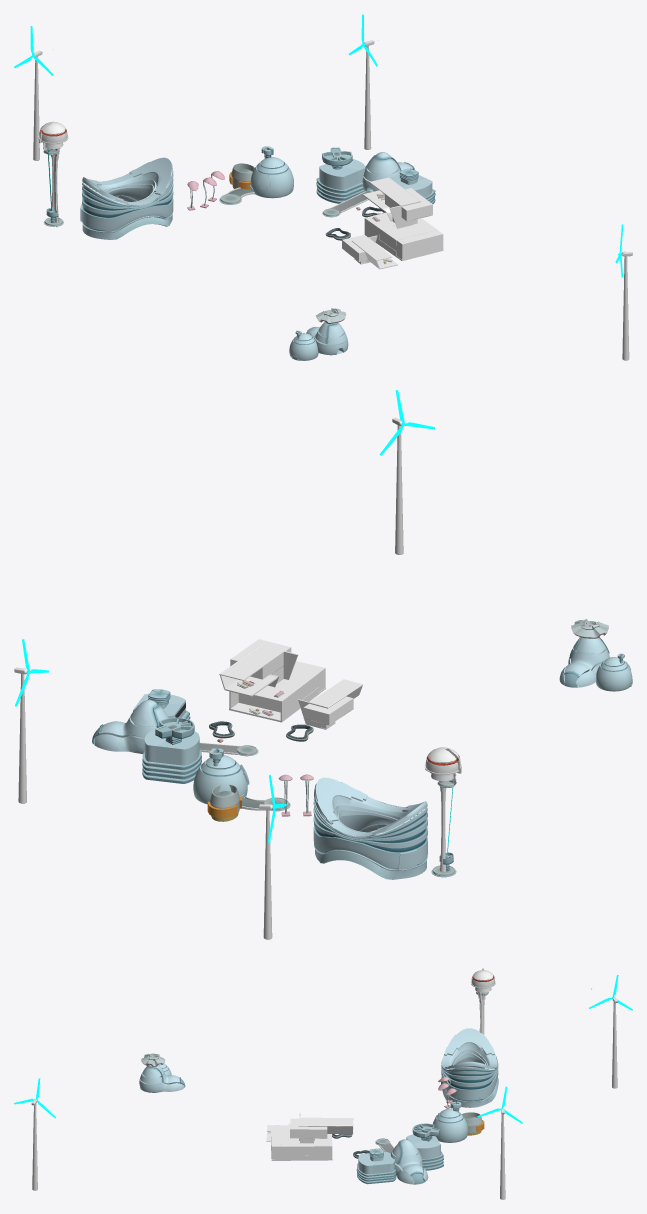
The model's file is Town03.glb.
3 renders of one model, top to bottom at view 1: azimuth 30°, elevation 25°; view 2: azimuth 150°, elevation 25°; view 3: azimuth 270°, elevation 25°, orthographic. The views are drawn at different scales.
Visible parts, largest first — view 1: Architecture_02, Modern House_01, Modern House_02, 17489_Wind_Turbine_v1 (×3), Chimney_02 (2), Egg House_01, Modern House_02 (1), Tower_02 (1), Egg House_03, Egg House_03 (1), Egg House_01 (2), Chimney_02 (+2 smaller); view 2: Architecture_02, Modern House_02, Modern House_01, 17489_Wind_Turbine_v1 (×3), Chimney_02 (2), Egg House_03, Modern House_02 (1), Egg House_01, Egg House_03 (1), Tower_02 (1), Egg House_01 (2), Platform_04 (+1 smaller); view 3: Architecture_02, Modern House_01, Modern House_02, 17489_Wind_Turbine_v1 (×3), Egg House_03, Chimney_02, Egg House_01, Egg House_03 (1), Chimney_02 (2), Tower_02 (1), Platform_04, Platform_02 (1).
Part boxes in pixels (x1,y1,x2,y2): Architecture_02: (80, 157, 173, 239); Modern House_01: (364, 212, 443, 261); Modern House_02: (362, 177, 432, 228); 17489_Wind_Turbine_v1 (×3): (33, 39, 632, 360); Chimney_02 (2): (316, 159, 365, 203); Egg House_01: (250, 157, 293, 198); Modern House_02 (1): (342, 235, 397, 269); Tower_02 (1): (38, 121, 68, 227); Egg House_03: (362, 152, 414, 191); Egg House_03 (1): (306, 322, 348, 355); Egg House_01 (2): (289, 333, 318, 360); Chimney_02: (390, 173, 435, 203); Architecture_02: (313, 777, 427, 879); Modern House_02: (219, 639, 298, 696); Modern House_01: (229, 661, 325, 722); 17489_Wind_Turbine_v1 (×3): (14, 418, 403, 939); Chimney_02 (2): (142, 728, 201, 783); Egg House_03: (92, 700, 168, 753); Modern House_02 (1): (298, 679, 363, 729); Egg House_01: (193, 755, 249, 804); Egg House_03 (1): (559, 637, 609, 687); Tower_02 (1): (424, 747, 461, 871); Egg House_01 (2): (596, 657, 632, 691); Platform_04: (207, 784, 241, 821); Architecture_02: (441, 1028, 498, 1107); Modern House_01: (271, 1129, 332, 1160); Modern House_02: (290, 1113, 353, 1143); 17489_Wind_Turbine_v1 (×3): (31, 988, 617, 1199); Egg House_03: (391, 1139, 428, 1184); Chimney_02: (356, 1151, 396, 1184); Egg House_01: (433, 1108, 467, 1142); Egg House_03 (1): (139, 1064, 185, 1092); Chimney_02 (2): (406, 1134, 443, 1170); Tower_02 (1): (471, 968, 495, 1034); Platform_04: (462, 1112, 484, 1135); Platform_02 (1): (412, 1123, 440, 1141).
Size of the model in its own units: 98.12 by 37.32 by 182.
7 materials, 3 textured.
